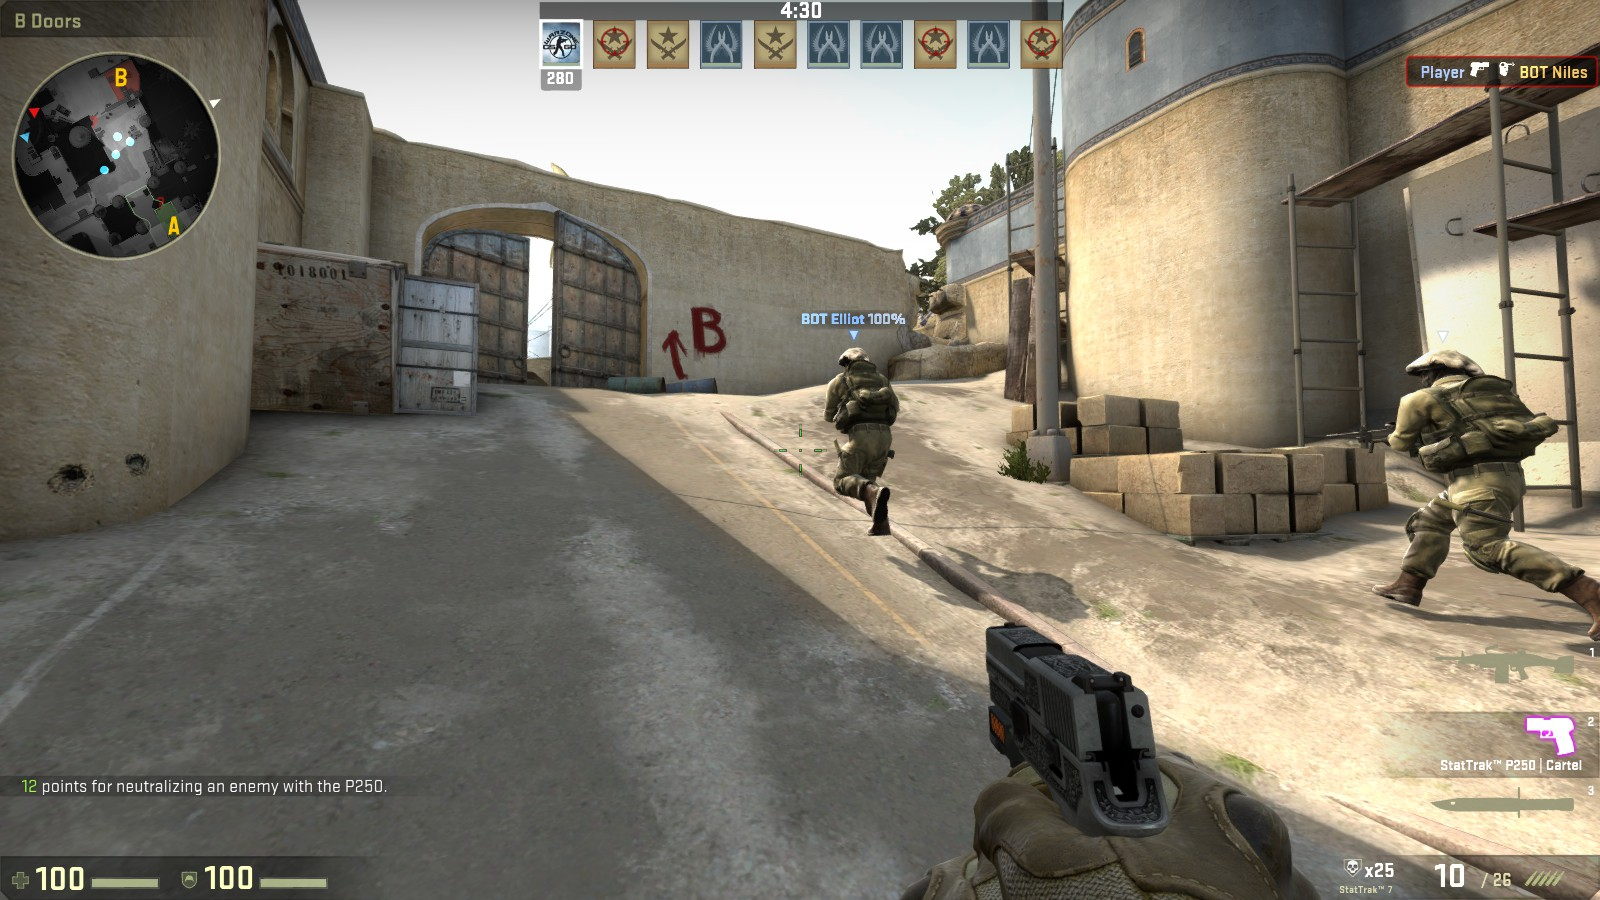c: (1387, 347, 1577, 619), (822, 338, 901, 534)
ch: (1404, 348, 1488, 387), (831, 344, 875, 370)
